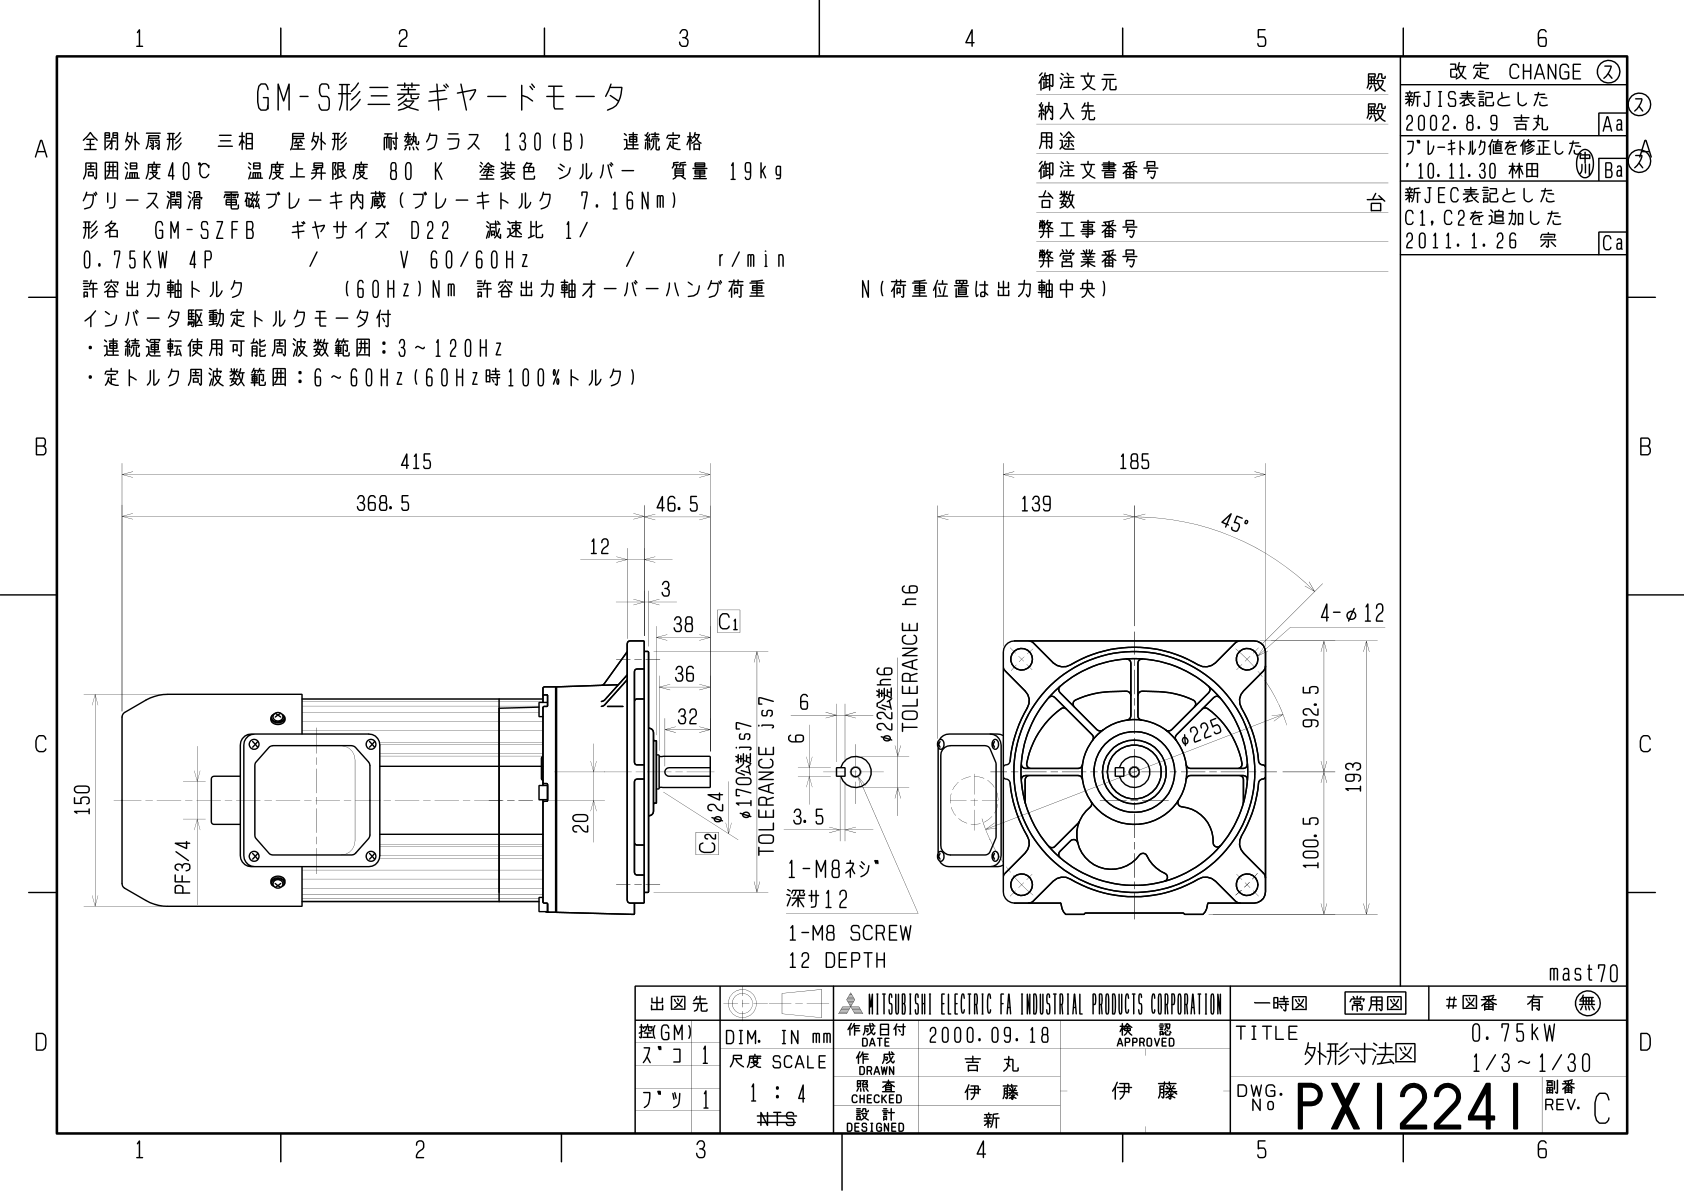GM_S_インバタ屋外＿三相_フランジ: (61, 402, 1392, 978)
